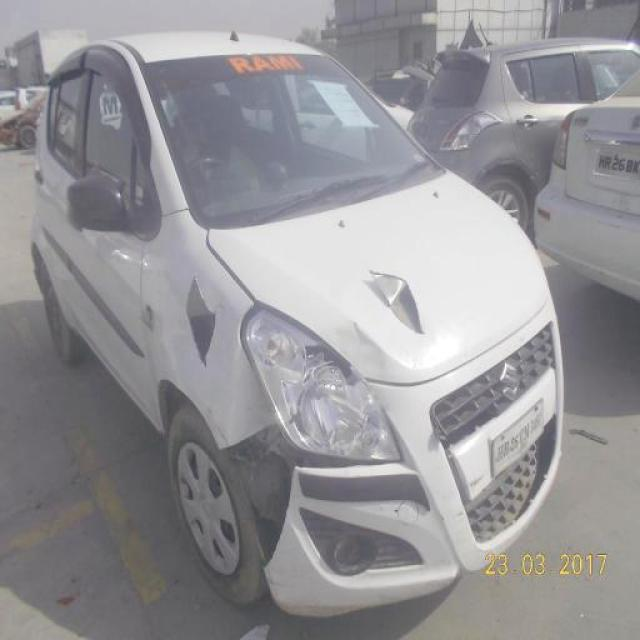car damage: (218, 422, 407, 568), (330, 322, 413, 385), (360, 266, 429, 339), (183, 274, 217, 369), (294, 340, 358, 384)
